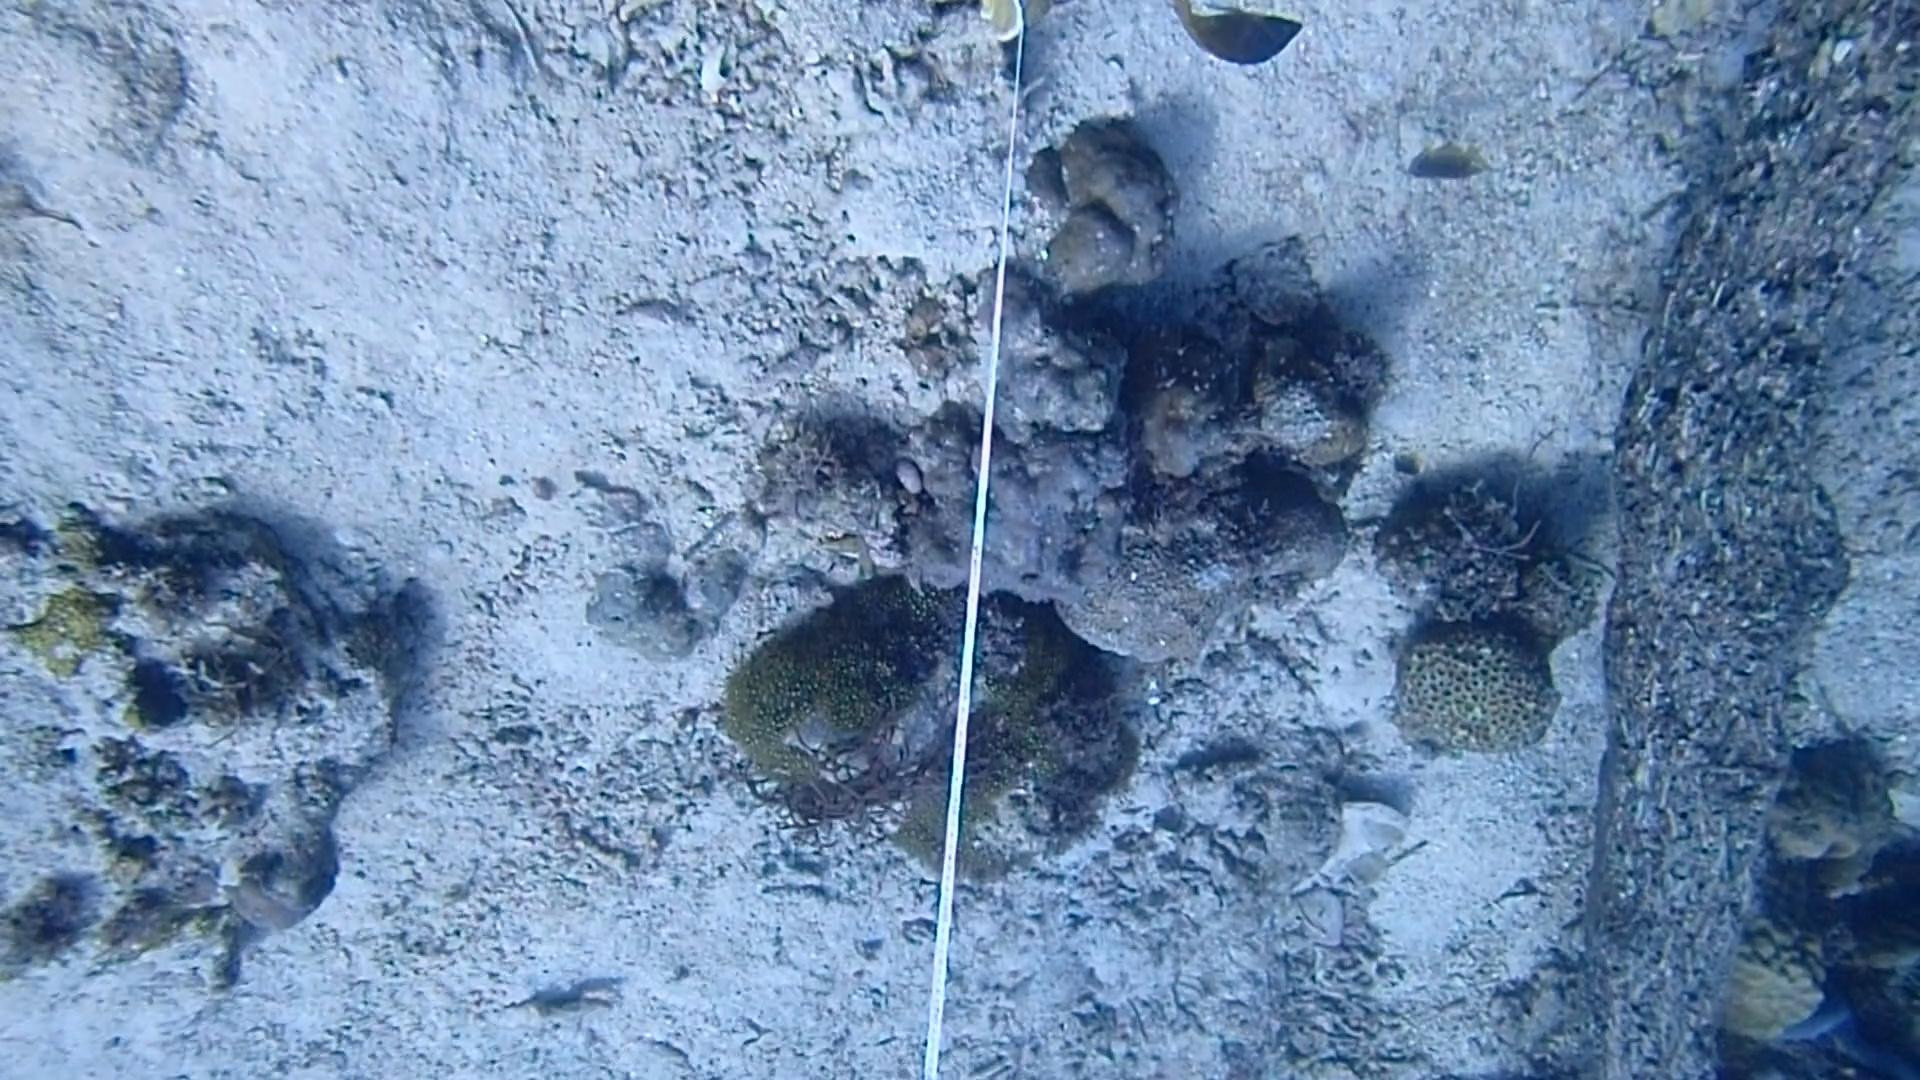Light Fish: (1386, 125, 1491, 198)
Yellow-Blue Fish: (1163, 0, 1303, 79)
